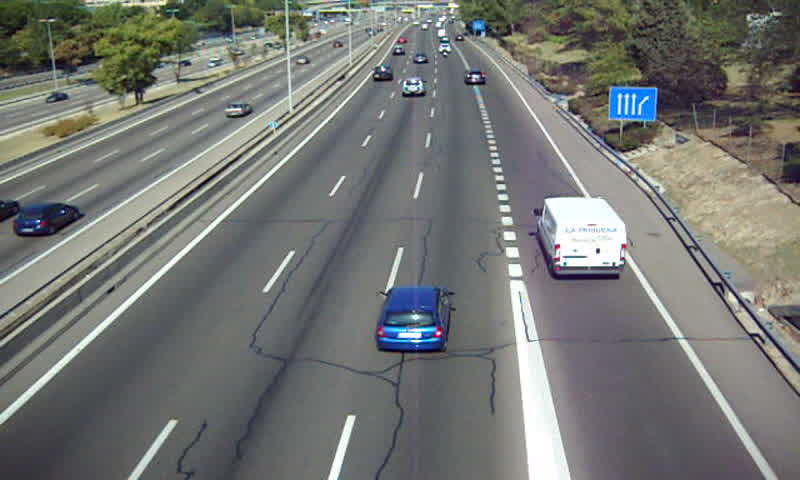car: (376, 286, 452, 351), (400, 78, 426, 98), (463, 70, 489, 86), (372, 64, 393, 83)
van: (533, 197, 629, 276)
